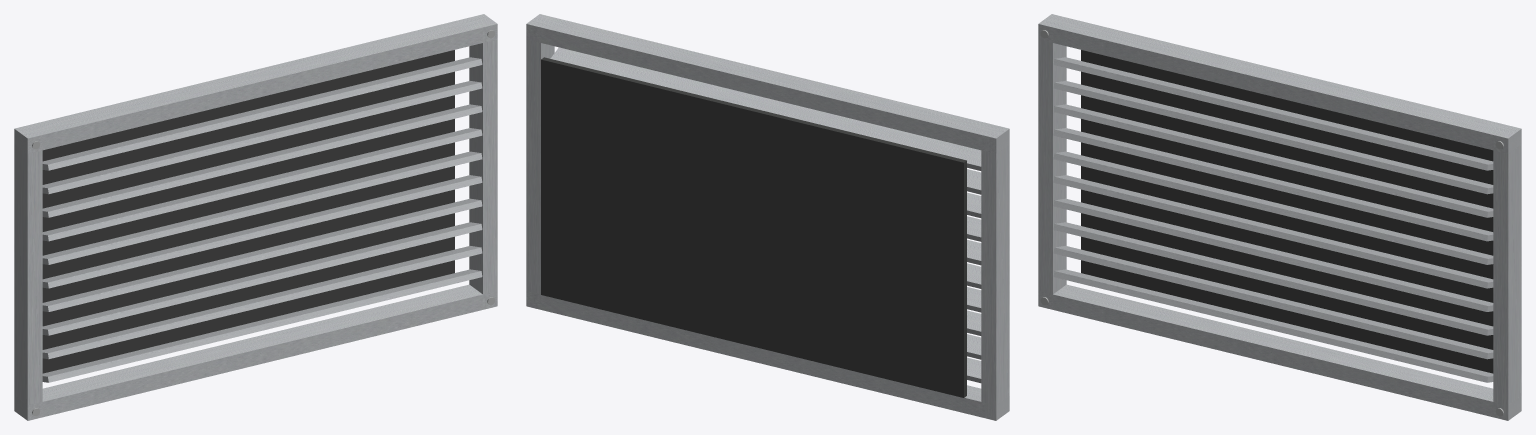
The model's file is wall_vent.glb.
3 views of the same model, side by side, from view 1: azimuth 30°, elevation 25°; view 2: azimuth 150°, elevation 25°; view 3: azimuth 330°, elevation 25° (orthographic).
Visible parts, largest first — view 1: Dark recessed backing, Straight horizontal frame.001, Straight horizontal frame, Straight vertical frame, Straight vertical frame.001, Evenly spaced louver 05, Evenly spaced louver 06, Evenly spaced louver 08, Evenly spaced louver 01, Evenly spaced louver 03, Evenly spaced louver 07, Evenly spaced louver 02 (+3 smaller); view 2: Dark recessed backing, Straight horizontal frame.001, Straight horizontal frame, Straight vertical frame, Evenly spaced louver 10, Straight vertical frame.001; view 3: Dark recessed backing, Straight horizontal frame.001, Straight horizontal frame, Straight vertical frame.001, Straight vertical frame, Evenly spaced louver 05, Evenly spaced louver 06, Evenly spaced louver 08, Evenly spaced louver 01, Evenly spaced louver 03, Evenly spaced louver 07, Evenly spaced louver 02 (+3 smaller).
Boxes of the visible parts, box(x1,y1,x2,y2) form: Dark recessed backing: box(42, 50, 454, 373); Straight horizontal frame.001: box(14, 14, 497, 153); Straight horizontal frame: box(14, 284, 497, 420); Straight vertical frame: box(14, 136, 42, 419); Straight vertical frame.001: box(469, 28, 497, 307); Evenly spaced louver 05: box(42, 175, 482, 288); Evenly spaced louver 06: box(42, 151, 482, 264); Evenly spaced louver 08: box(42, 104, 482, 217); Evenly spaced louver 01: box(42, 269, 482, 382); Evenly spaced louver 03: box(42, 222, 482, 335); Evenly spaced louver 07: box(42, 128, 482, 241); Evenly spaced louver 02: box(42, 246, 482, 359); Dark recessed backing: box(541, 57, 966, 397); Straight horizontal frame.001: box(526, 14, 1009, 153); Straight horizontal frame: box(526, 291, 1009, 420); Straight vertical frame: box(981, 136, 1009, 419); Evenly spaced louver 10: box(550, 47, 981, 170); Straight vertical frame.001: box(526, 25, 554, 308); Dark recessed backing: box(1081, 50, 1493, 373); Straight horizontal frame.001: box(1038, 14, 1521, 153); Straight horizontal frame: box(1038, 284, 1521, 420); Straight vertical frame.001: box(1493, 136, 1521, 419); Straight vertical frame: box(1038, 25, 1066, 308); Evenly spaced louver 05: box(1053, 175, 1493, 288); Evenly spaced louver 06: box(1053, 151, 1493, 264); Evenly spaced louver 08: box(1053, 104, 1493, 217); Evenly spaced louver 01: box(1053, 269, 1493, 382); Evenly spaced louver 03: box(1053, 222, 1493, 335); Evenly spaced louver 07: box(1053, 128, 1493, 241); Evenly spaced louver 02: box(1053, 246, 1493, 359).
Bounding box in the file's own units: 0.7 × 0.402 × 0.065.
3 materials, 1 textured.
